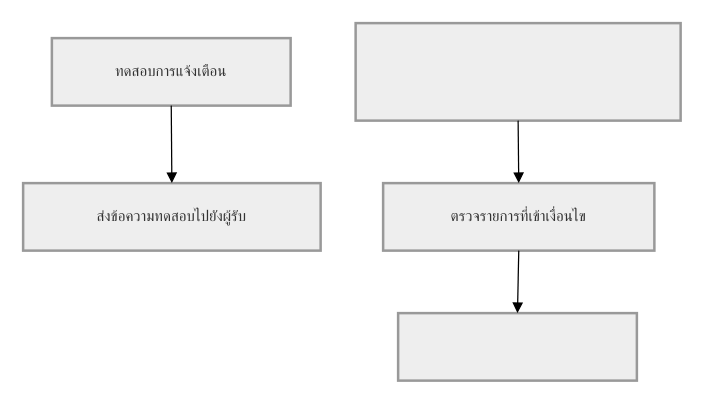
Some shapes in this 703 by 403 pixel diagram are drawn without their labels. The shapes that lost their labels are listed below. From the top down, each one's centre as x and y in pixels, then its label:
At point 517,71: "งานอัตโนมัติตรวจรายการค้างชำระ".
At point 517,346: "ส่งแจ้งเตือนอัตโนมัติ".
